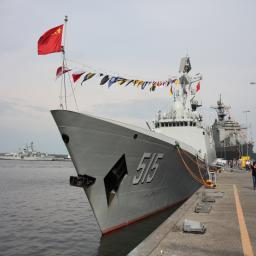Fragata: (51, 27, 219, 240)
